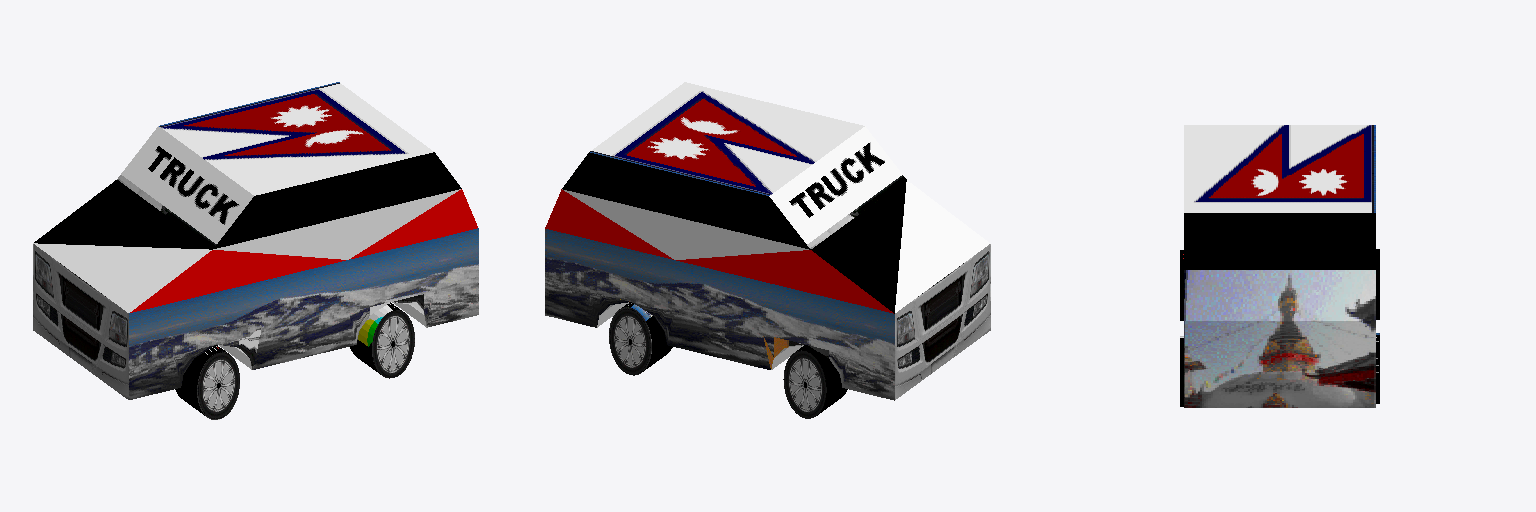
3 renders of one model, left to right at view 1: azimuth 30°, elevation 25°; view 2: azimuth 150°, elevation 25°; view 3: azimuth 270°, elevation 25°, orthographic.
Visible parts, largest first — view 1: Cube.001; view 2: Cube.001; view 3: Cube.001.
Part boxes in pixels (x1,y1,x2,y2): Cube.001: (33, 82, 478, 419); Cube.001: (545, 82, 990, 418); Cube.001: (1180, 125, 1379, 407).
Size of the model in its own units: 5.47 by 3.2 by 2.71.
Materials: 1 (1 with a texture image).